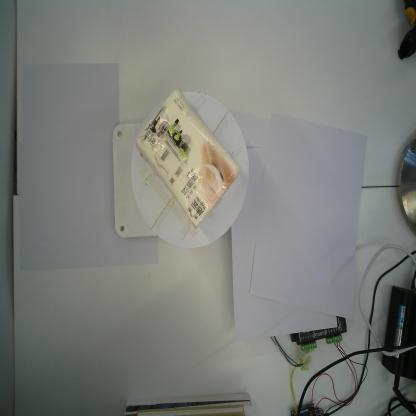Tissue: (134, 87, 241, 229)
